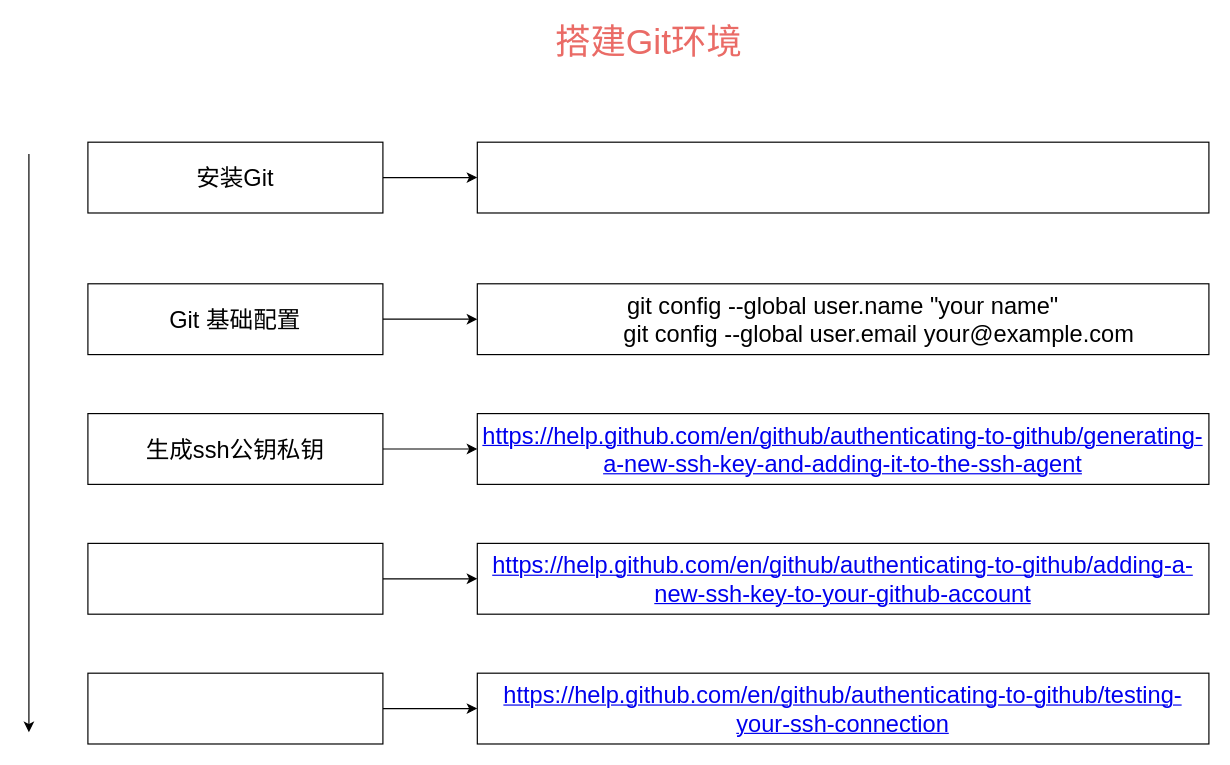
Some shapes in this 1230 by 765 pixel diagram are drawn without their labels. The centre of each missing label's shape, as x and y in pixels:
"https://git-scm.com/downloads" goes at pixel 842 177.
"将公钥添加到Github" goes at pixel 235 578.
"测试ssh连接" goes at pixel 235 708.
